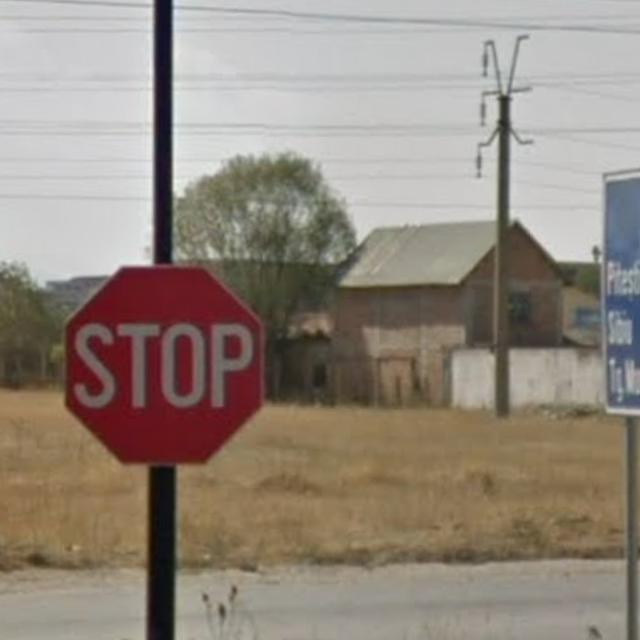prio_stop: (63, 266, 265, 464)
